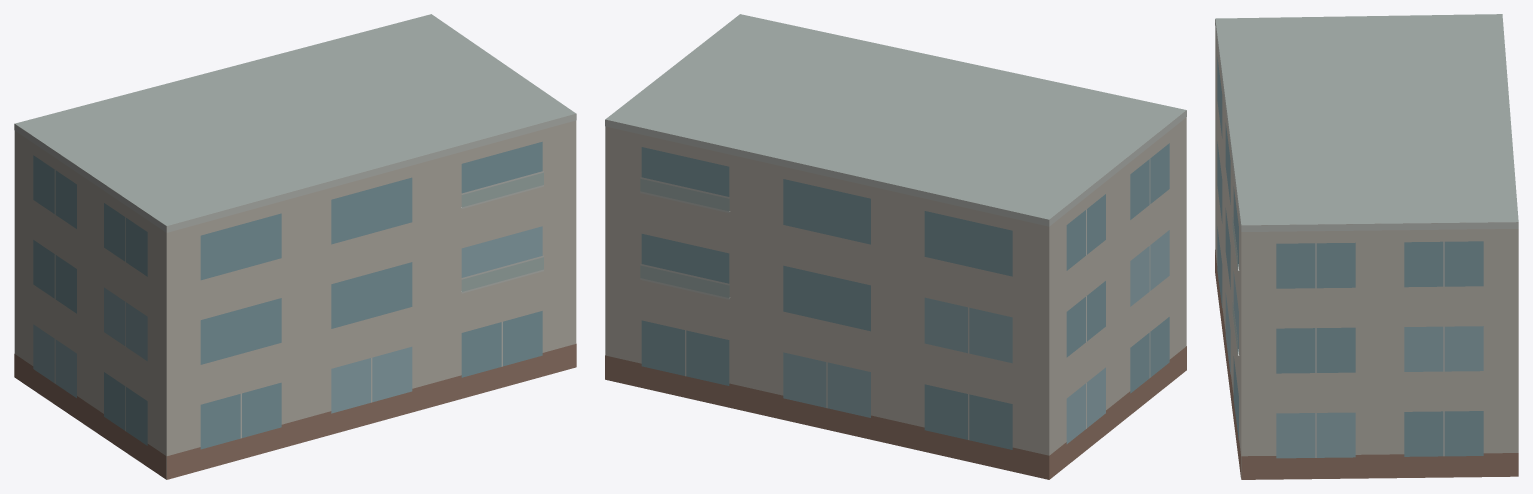
The model's file is survey-upis-32568065.glb.
3 renders of one model, left to right at view 1: azimuth 30°, elevation 25°; view 2: azimuth 150°, elevation 25°; view 3: azimuth 270°, elevation 25°, orthographic. The views are drawn at different scales.
Visible parts, largest first — view 1: survey-upis-32568065.tmp; view 2: survey-upis-32568065.tmp; view 3: survey-upis-32568065.tmp.
Part boxes in pixels (box(x1,y1,x2,y2)): survey-upis-32568065.tmp: box(14, 14, 576, 479); survey-upis-32568065.tmp: box(605, 14, 1186, 479); survey-upis-32568065.tmp: box(1215, 14, 1518, 479).
Size of the model in its own units: 16.3 by 9.15 by 9.9.
